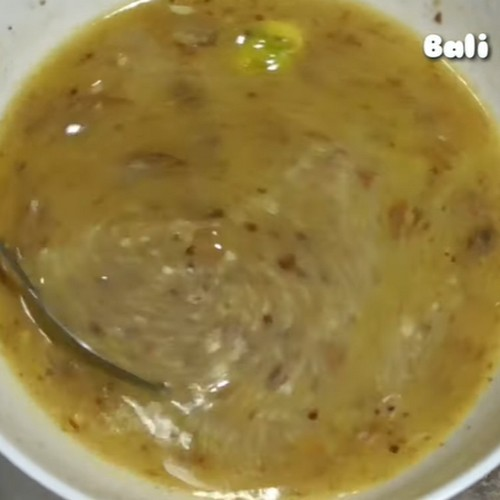komoh: (38, 13, 413, 312)
